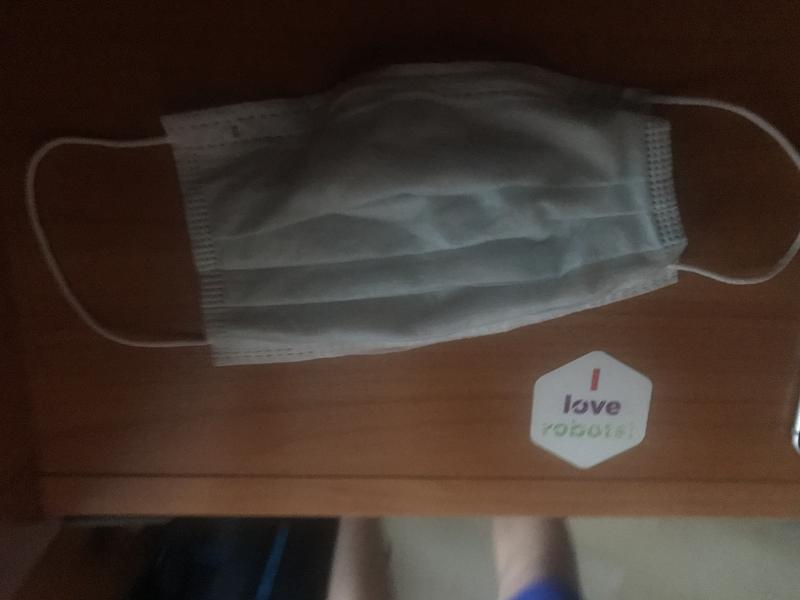medical_mask: (26, 62, 800, 353)
